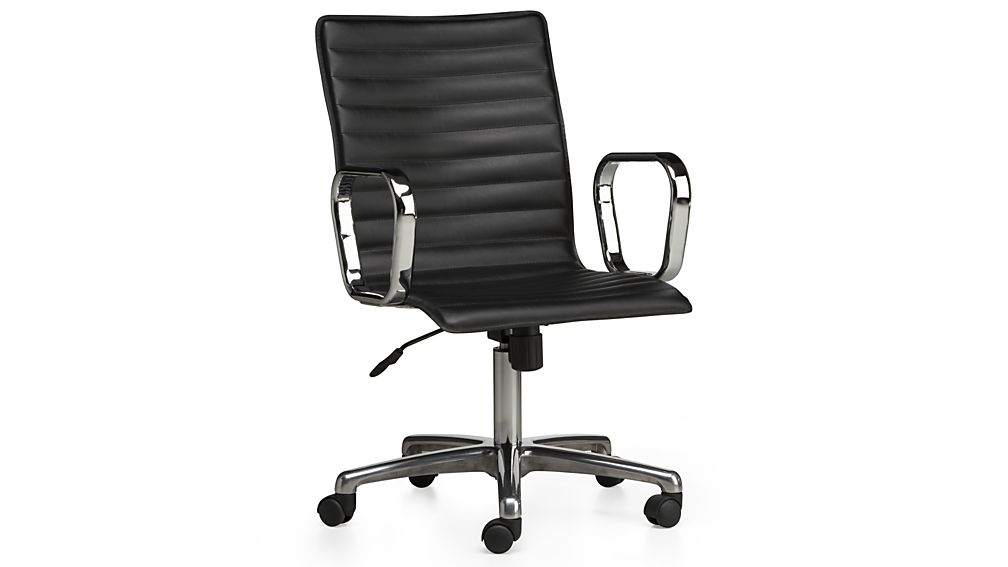chairs: (310, 2, 700, 557)
